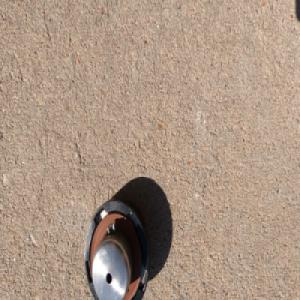FuelCap: (81, 194, 152, 300)
